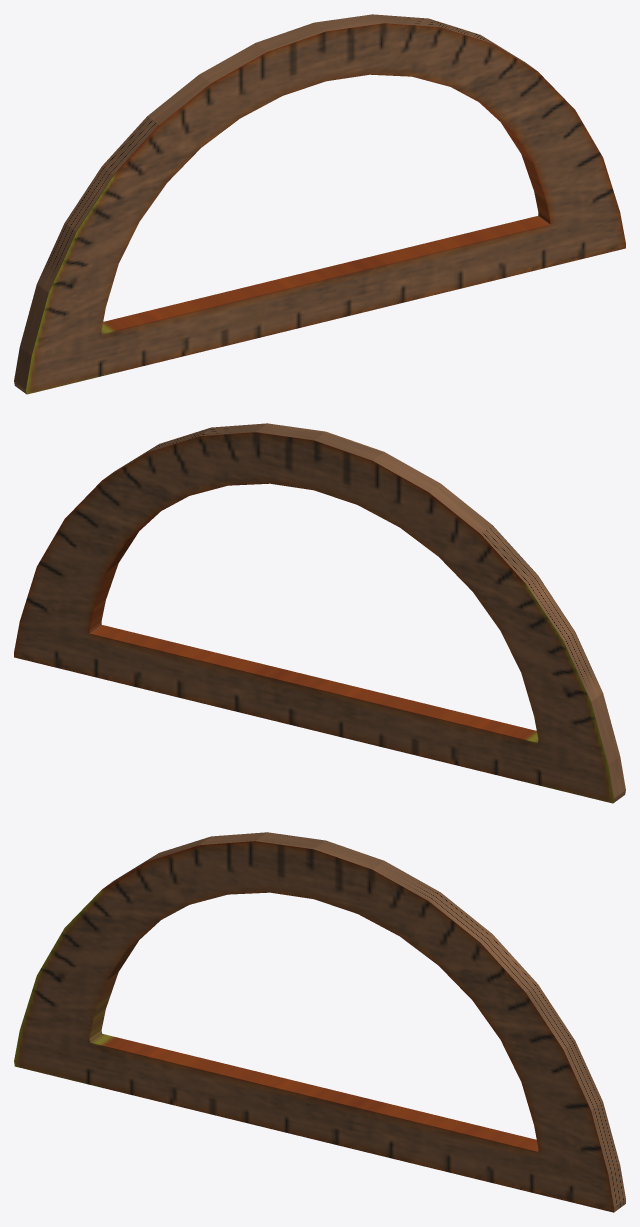
File: RULER 1.fbx
3 views of the same model, one above another, from view 1: azimuth 30°, elevation 25°; view 2: azimuth 150°, elevation 25°; view 3: azimuth 330°, elevation 25° (orthographic).
Visible parts, largest first — view 1: RULER 1; view 2: RULER 1; view 3: RULER 1.
Part boxes in pixels (x1,y1,x2,y2): RULER 1: (14,14,625,394); RULER 1: (14,423,625,803); RULER 1: (14,832,625,1212).
Bounding box in the file's own units: 0.6589 × 0.0229 × 0.3045.
